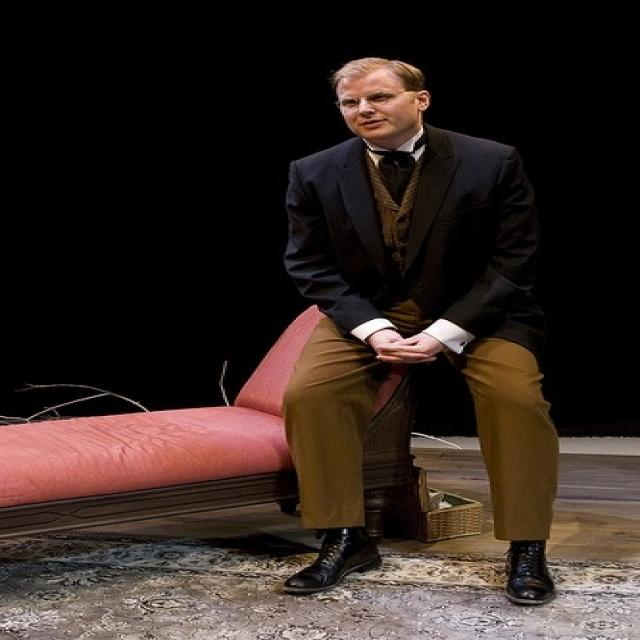idoso sentado: (235, 64, 607, 606)
